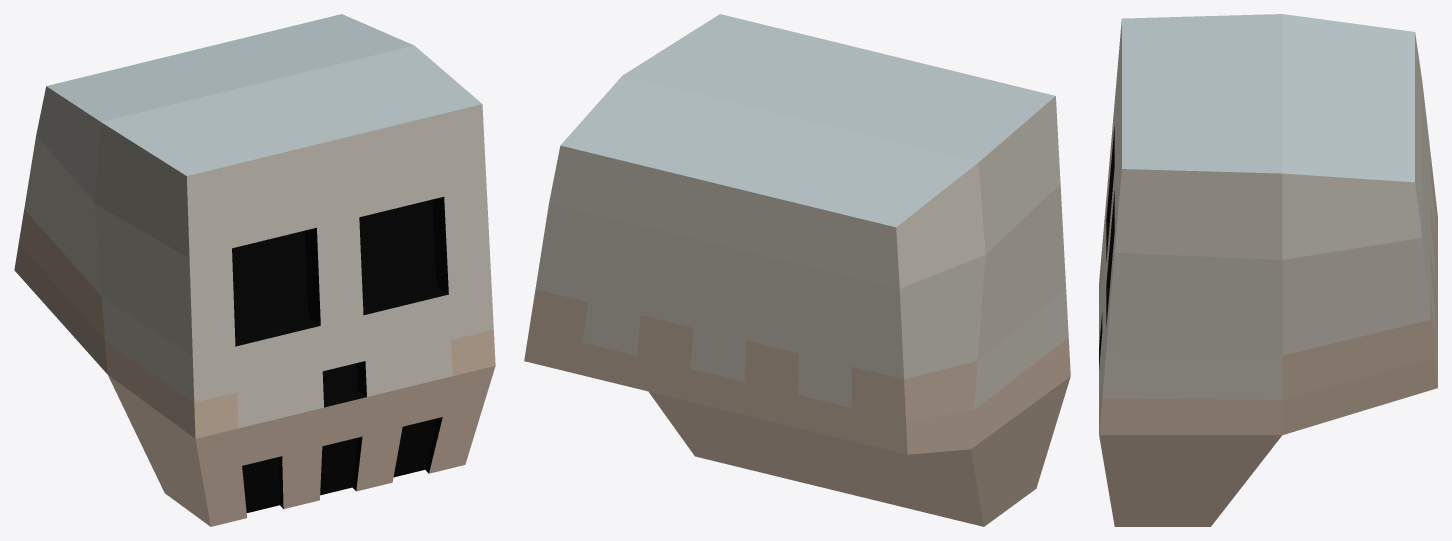
The model's file is TempCaveira.fbx.
The picture shows the model from 3 angles, left to right: view 1: azimuth 30°, elevation 25°; view 2: azimuth 150°, elevation 25°; view 3: azimuth 270°, elevation 25°; orthographic projection. The views are drawn at different scales.
Parts seen in each view (by area): view 1: CaveiraInimigo; view 2: CaveiraInimigo; view 3: CaveiraInimigo.
Part boxes in pixels (<box>): CaveiraInimigo: <box>14,14,495,526</box>; CaveiraInimigo: <box>524,14,1070,526</box>; CaveiraInimigo: <box>1099,14,1437,526</box>.
Bounding box in the file's own units: 60 × 60 × 50.
